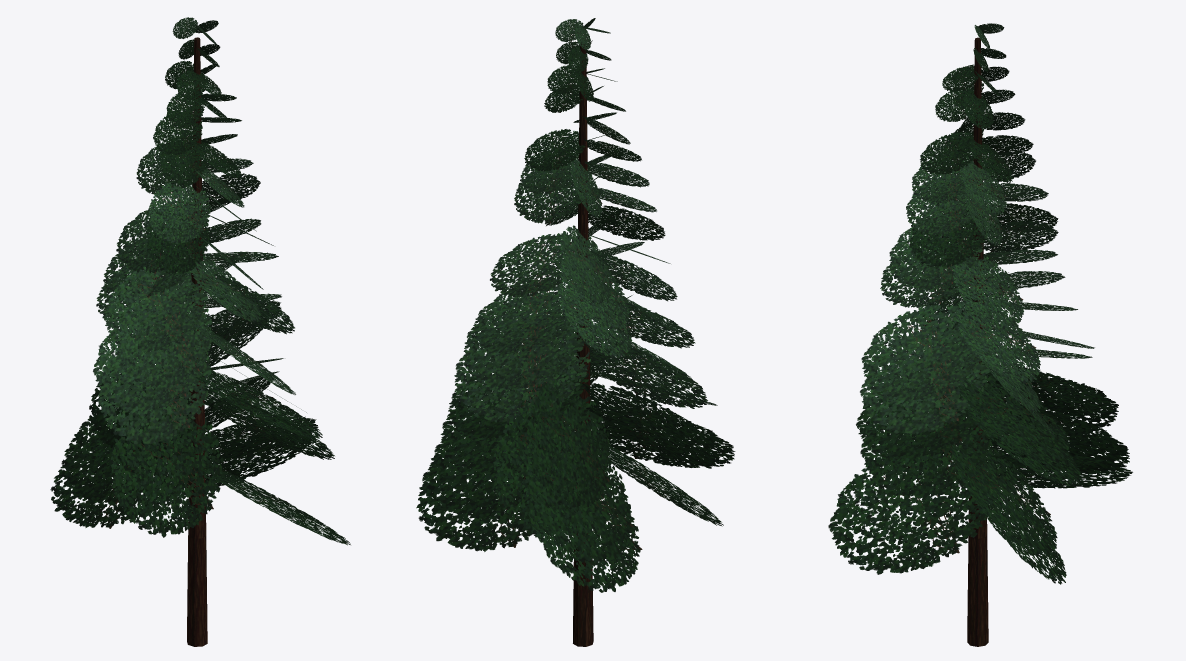
Rendered from cedar_b.glb.
3 views of the same model, side by side, from view 1: azimuth 30°, elevation 25°; view 2: azimuth 150°, elevation 25°; view 3: azimuth 270°, elevation 25° (orthographic).
Visible parts, largest first — view 1: cedar; view 2: cedar; view 3: cedar.
Boxes of the visible parts, x1,y1,x2,y2 form: cedar: (50, 17, 350, 646); cedar: (416, 18, 735, 646); cedar: (828, 23, 1132, 646).
Size of the model in its own units: 13.19 by 23.25 by 12.94.
Materials: 3 (3 with a texture image).
